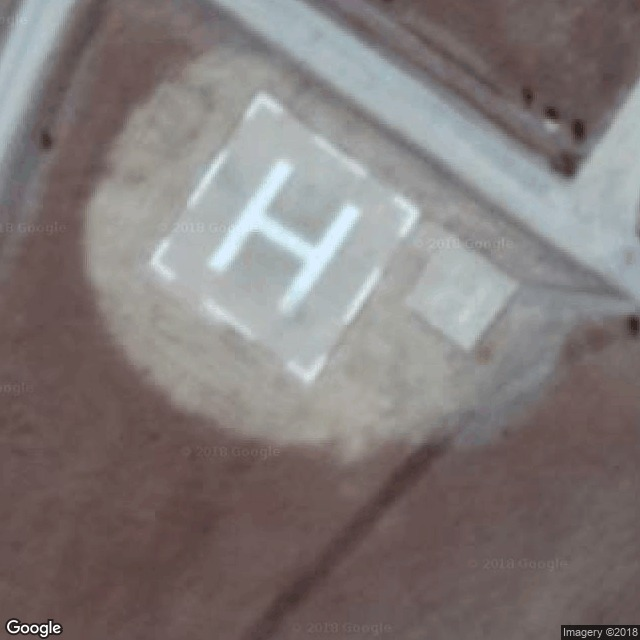heliport: (207, 145, 363, 322)
